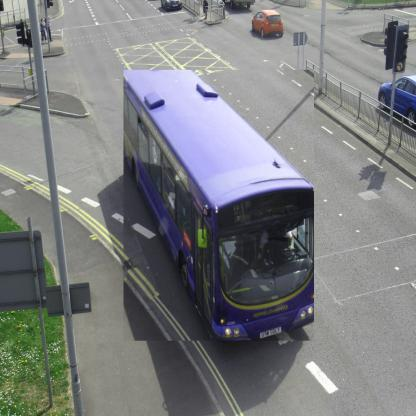bus: (124, 71, 315, 342)
car: (378, 75, 415, 132), (252, 10, 285, 39)
